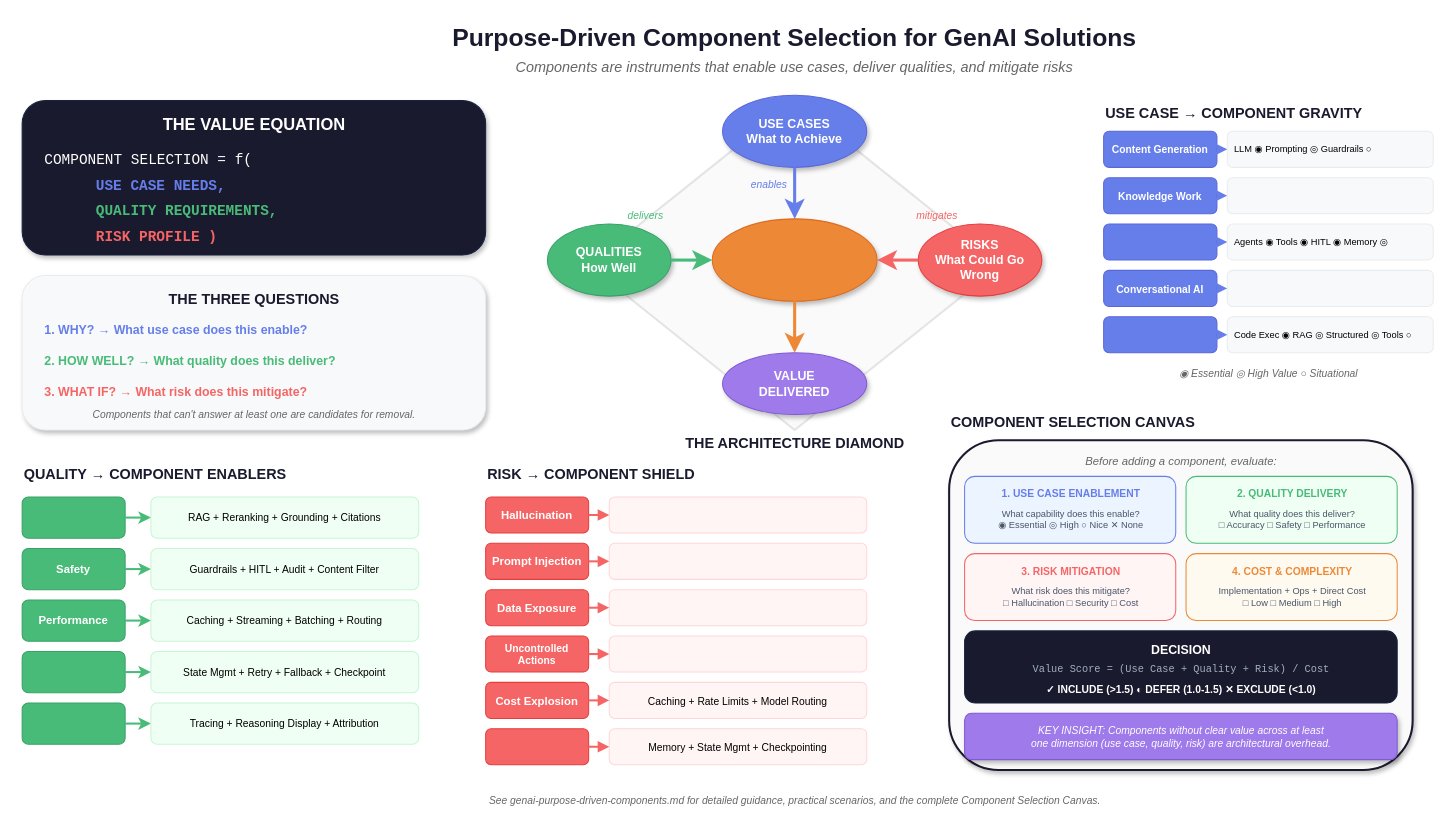
Image size: 1451x828. Some labels were removed from this diagram. Each missing label, with the centre of its shape:
Accuracy: the point at 73,517
Autonomous Systems: the point at 1160,241
Code Development: the point at 1160,334
COMPONENTS The Means: the point at 795,261
Context Loss: the point at 537,746
DLP + PII Filtering + Output Guardrails: the point at 737,607
Explainability: the point at 73,723
HITL + Action Limits + Approval Workflows: the point at 737,653
Input Guardrails + Sanitization + Delimiters: the point at 737,560
Memory ◉ Routing ◉ RAG ◎ Escalation ○: the point at 1329,287
RAG + Citations + Grounding + Validation: the point at 737,514
RAG ◉ VectorDB ◉ Rerank ◎ Memory ○: the point at 1329,195
Resilience: the point at 73,671
